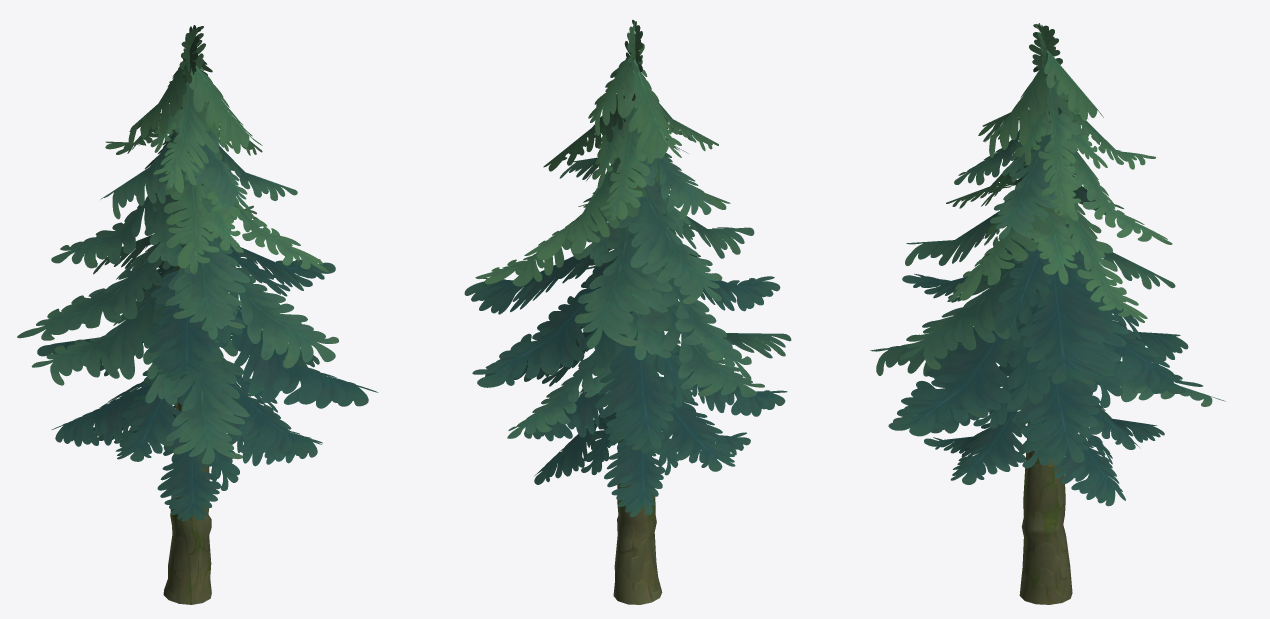
Rendered from m_env_collect_tree_cedar_04_lod1.FBX.
3 renders of one model, left to right at view 1: azimuth 30°, elevation 25°; view 2: azimuth 150°, elevation 25°; view 3: azimuth 270°, elevation 25°, orthographic.
Visible parts, largest first — view 1: m_env_collect_tree_cedar_04_lod1; view 2: m_env_collect_tree_cedar_04_lod1; view 3: m_env_collect_tree_cedar_04_lod1.
Part boxes in pixels (left/top/right/bottom): m_env_collect_tree_cedar_04_lod1: left=17, top=25, right=378, bottom=604; m_env_collect_tree_cedar_04_lod1: left=464, top=20, right=791, bottom=604; m_env_collect_tree_cedar_04_lod1: left=870, top=23, right=1225, bottom=604.
Size of the model in its own units: 316 by 554 by 351.
